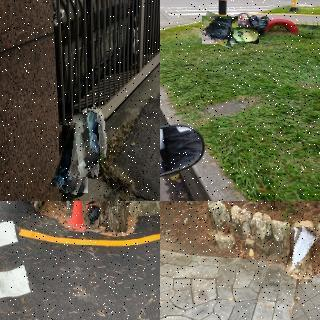Garbage: (54, 124, 93, 194), (71, 113, 100, 177), (287, 226, 317, 280), (200, 14, 240, 47), (89, 107, 108, 160), (231, 26, 259, 44), (84, 204, 101, 230), (249, 15, 268, 36), (231, 13, 250, 28)
